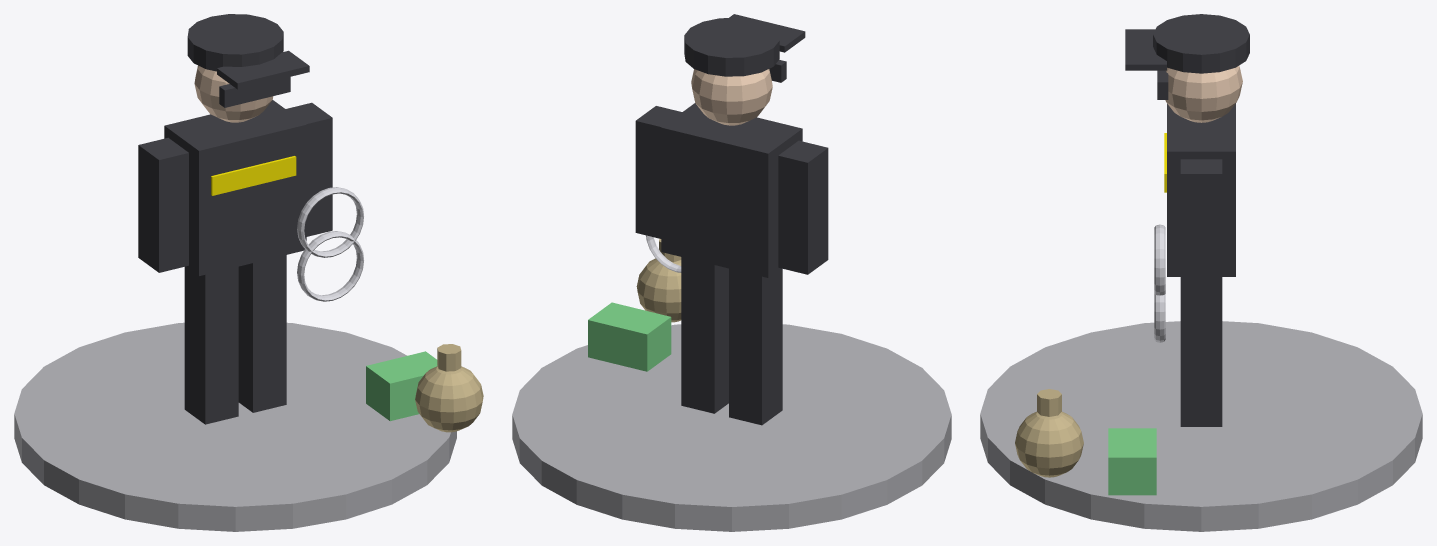
File: Agente_L1.fbx
The picture shows the model from 3 angles, left to right: view 1: azimuth 30°, elevation 25°; view 2: azimuth 150°, elevation 25°; view 3: azimuth 270°, elevation 25°; orthographic projection.
Parts seen in each view (by area): view 1: Agente_L1.001; view 2: Agente_L1.001; view 3: Agente_L1.001.
Part boxes in pixels (x1=…): Agente_L1.001: x1=14, y1=14, x2=483, y2=531; Agente_L1.001: x1=512, y1=14, x2=951, y2=531; Agente_L1.001: x1=980, y1=14, x2=1422, y2=531.
Bounding box in the file's own units: 3.2 × 3.23 × 3.2.
